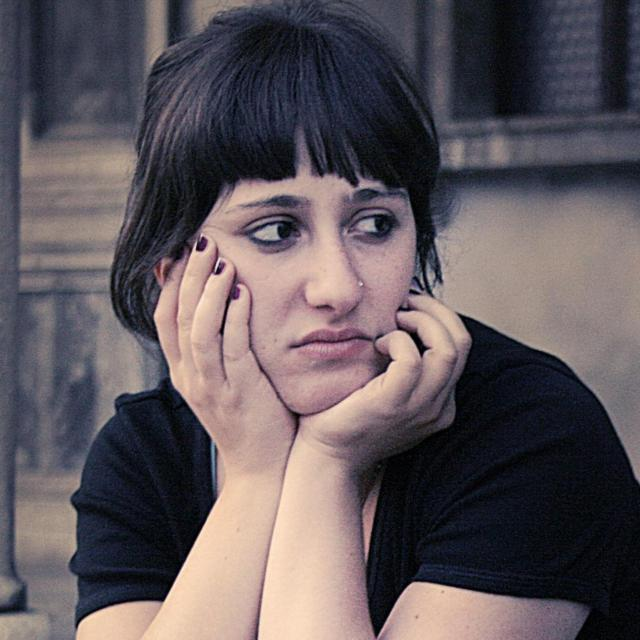no-glass: (231, 214, 409, 256)
